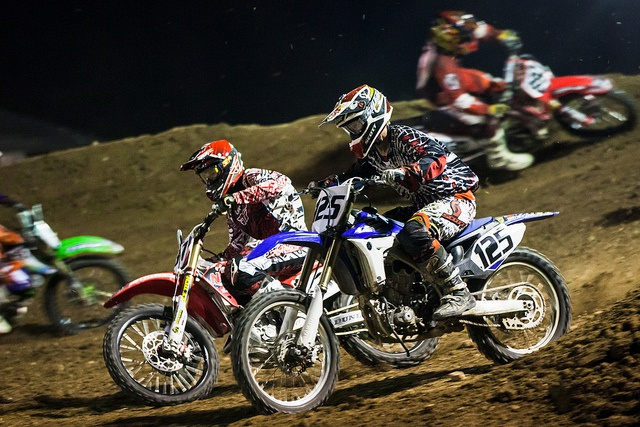non-vehicle: (230, 175, 569, 415), (103, 197, 440, 407), (359, 51, 636, 202), (0, 193, 128, 333)
